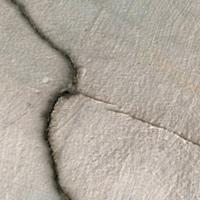crack: (5, 1, 126, 199)
